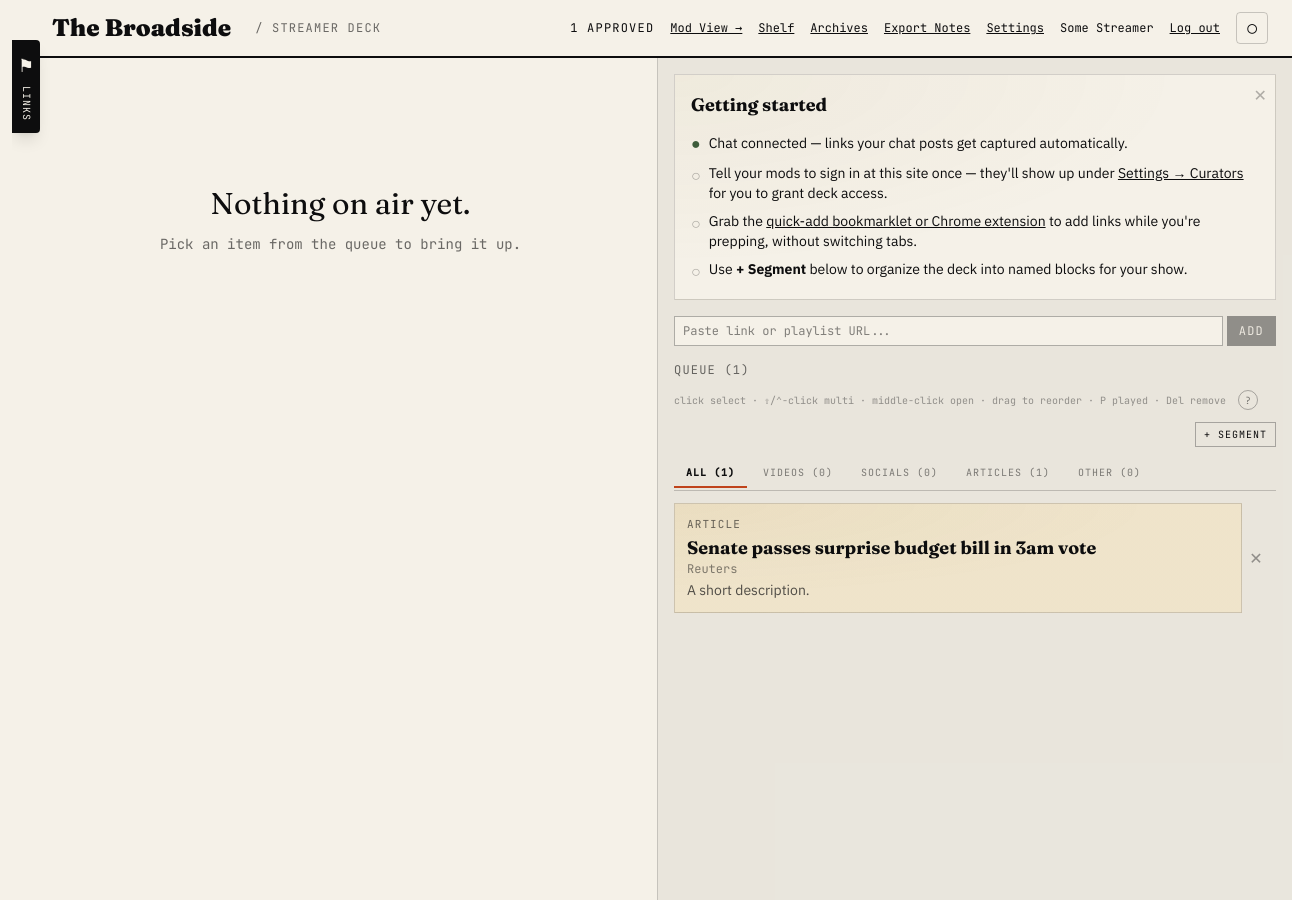
Test: DeckView — mark played / undo › does not flash the item back in if a refetch lands while the write is still in flight, and undo sends a real compensating write
This screenshot has width=1292, height=900.
Click the text "Senate passes surprise budget bill in 3am vote". click: (892, 547)
box: 687,536 -> 1096,558
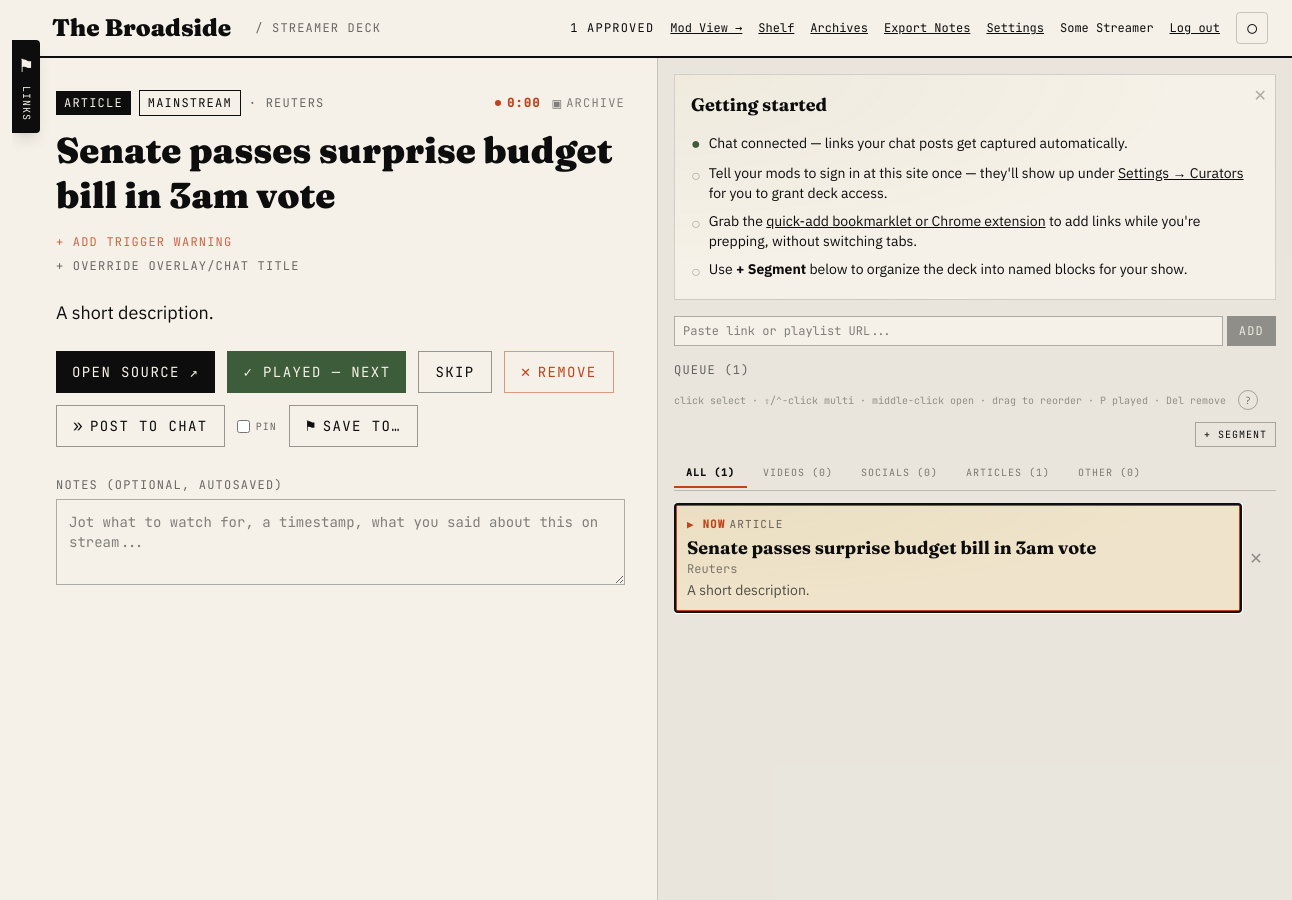
Click the button "✓ Played — next". click: (317, 372)
box: 227,351 -> 406,393
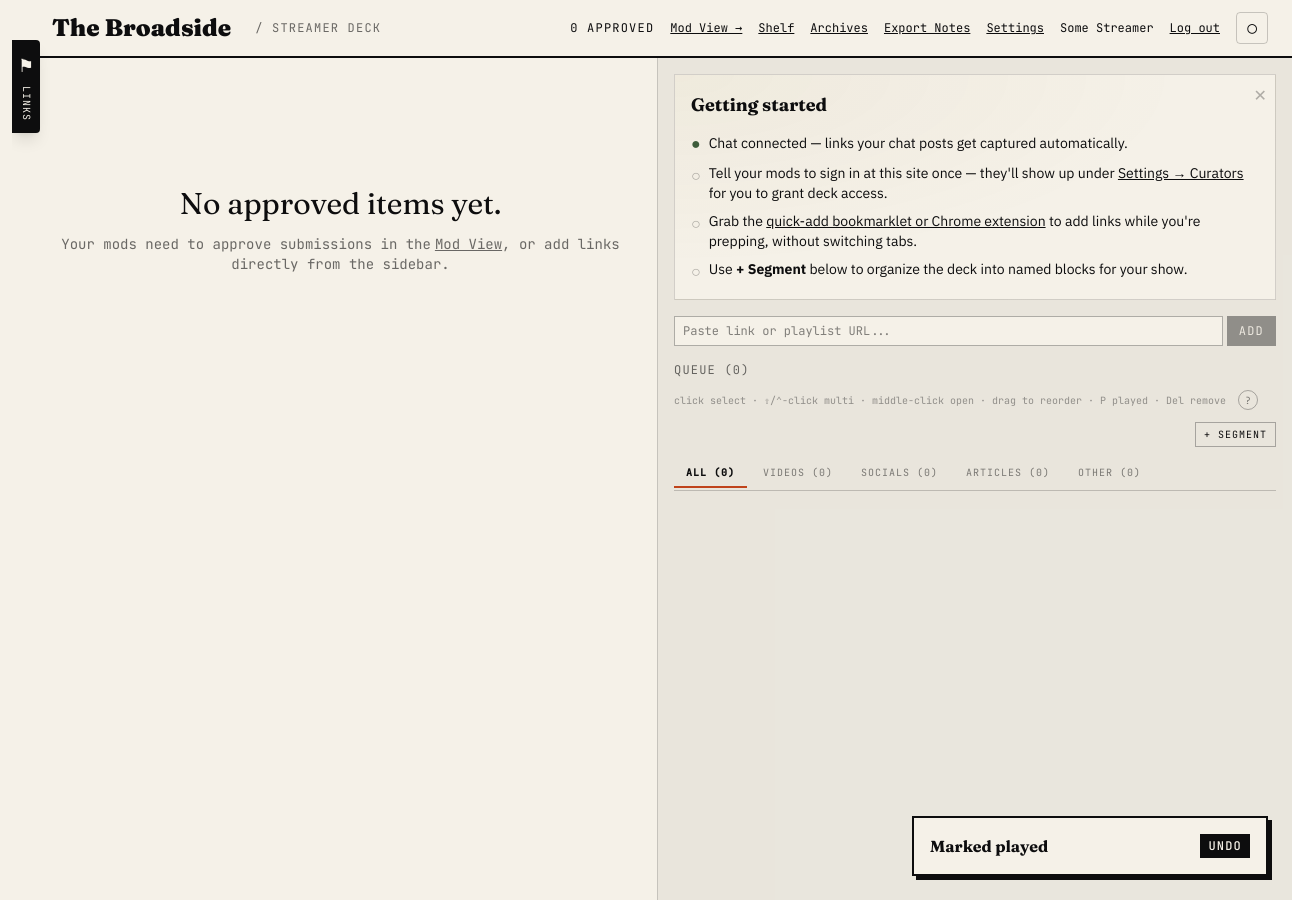
Result: the heading "Senate passes surprise budget bill in 3am vote" is gone
Click the button "Undo". click: (1225, 846)
box: 1200,834 -> 1250,858
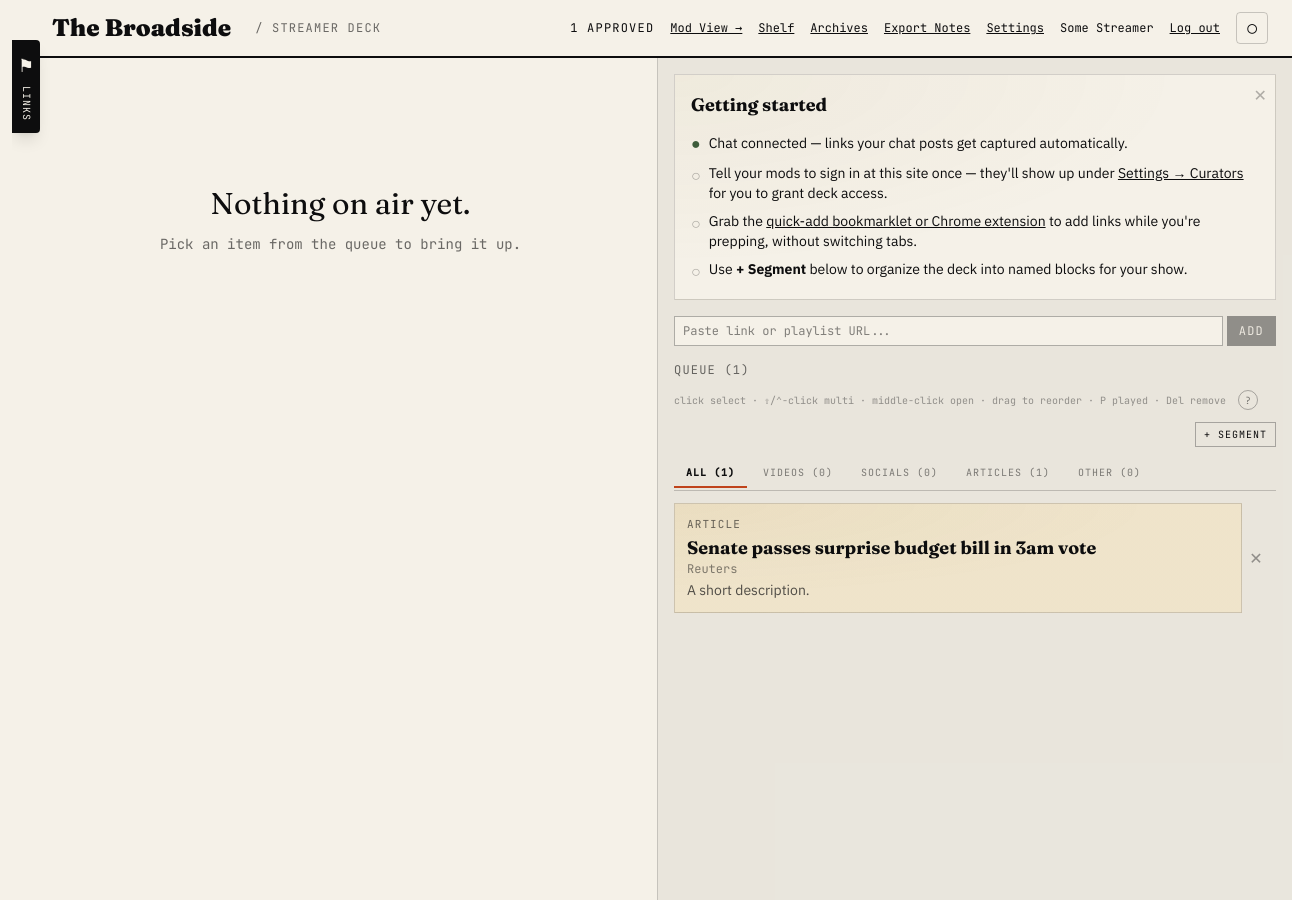
Result: the text "Senate passes surprise budget bill in 3am vote" is shown once at 687,536 -> 1096,558
